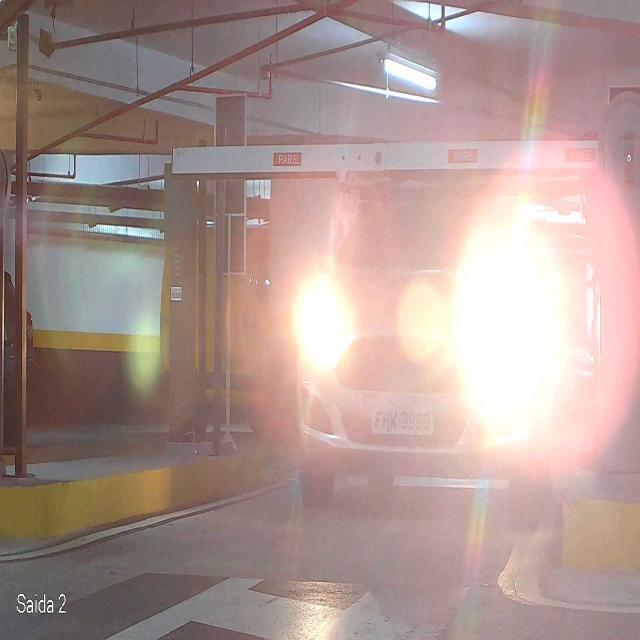old_plate: (368, 404, 437, 436)
